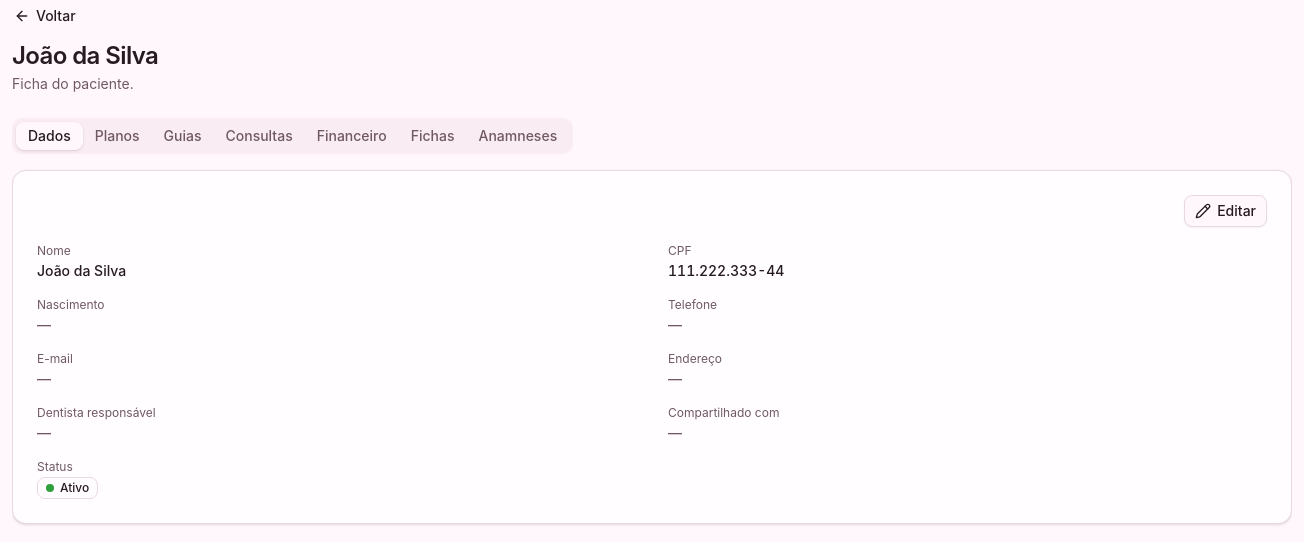
PacienteDetalhePage › aba Financeiro: mostra a parcela e o botão de marcar como pago
This screenshot has width=1304, height=542.
Click the tab "Financeiro": click(352, 136) [305,122,399,150]
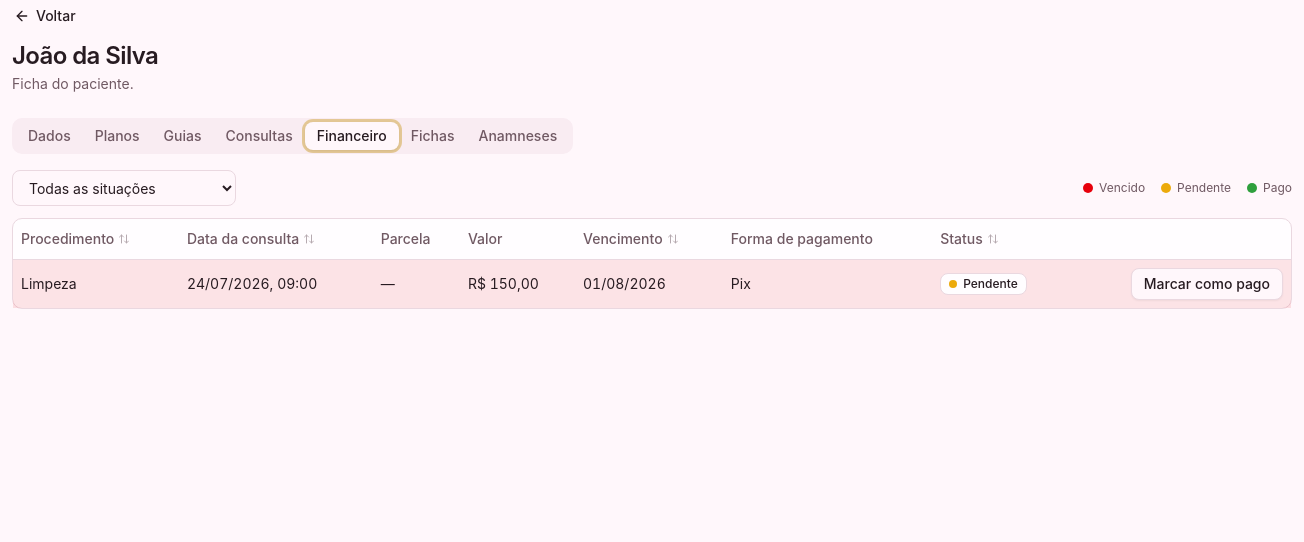
Now the text "Limpeza" is shown, box [13,259,179,308]
Now the text "R$ 150,00" is shown, box [468,274,539,292]
Now the button "Marcar como pago" is shown, box [1131,268,1283,300]
